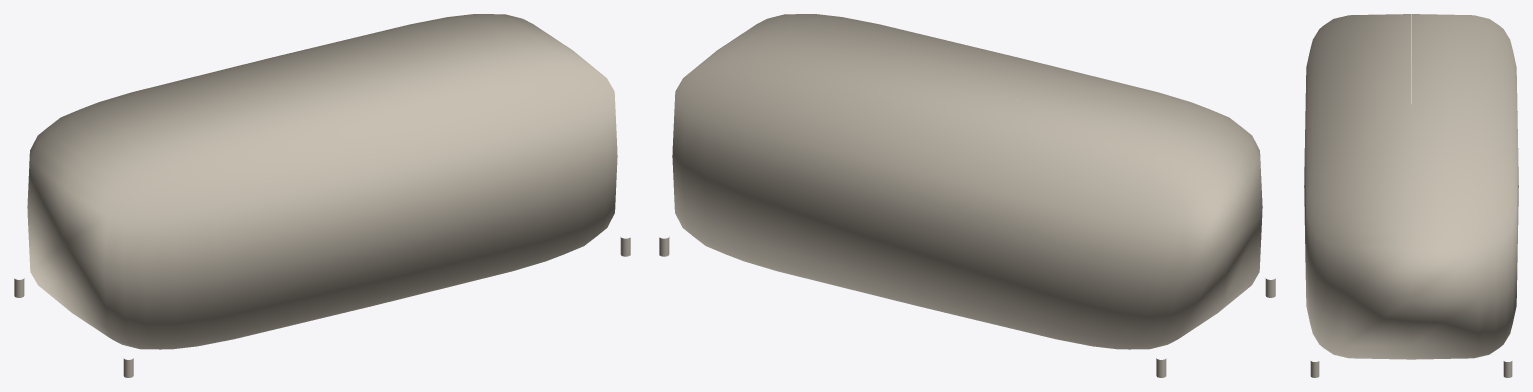
The model's file is ikea-vimle-59268192-g2-proxy.glb.
3 renders of one model, left to right at view 1: azimuth 30°, elevation 25°; view 2: azimuth 150°, elevation 25°; view 3: azimuth 270°, elevation 25°, orthographic. The views are drawn at different scales.
Parts seen in each view (by area): view 1: proxy_body; view 2: proxy_body; view 3: proxy_body.
Boxes of the visible parts, <box> form: proxy_body: <box>27,14,617,349</box>; proxy_body: <box>672,14,1262,349</box>; proxy_body: <box>1304,14,1518,359</box>.
Size of the model in its own units: 2.41 by 0.83 by 0.98.
